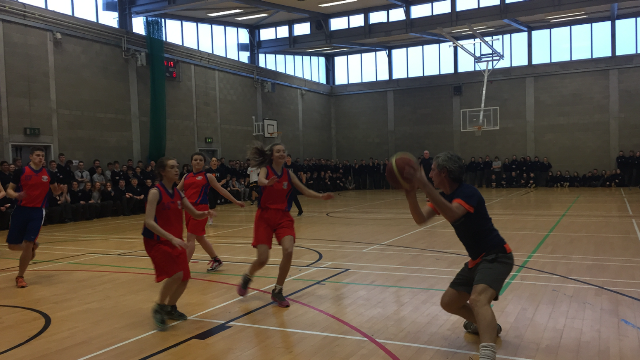ball: (388, 151, 425, 192)
basket: (475, 126, 486, 138)
player: (410, 151, 515, 360), (236, 141, 320, 306), (139, 157, 193, 331), (1, 148, 68, 286), (185, 152, 224, 273)
